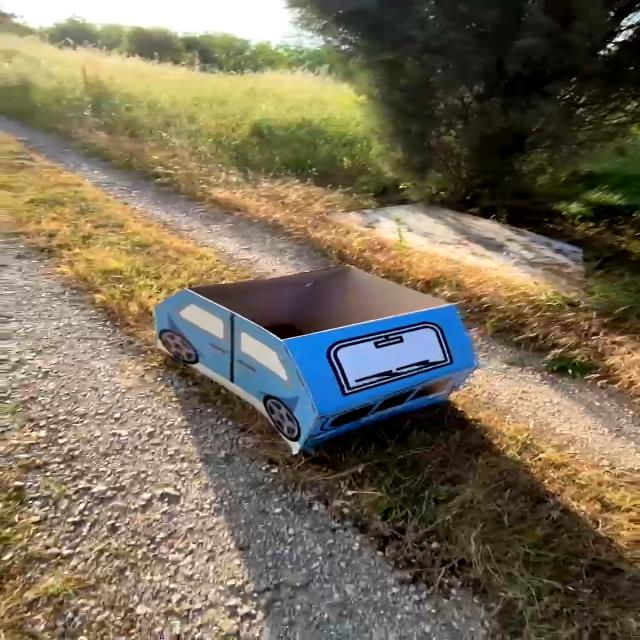blue_car: (83, 246, 526, 482)
